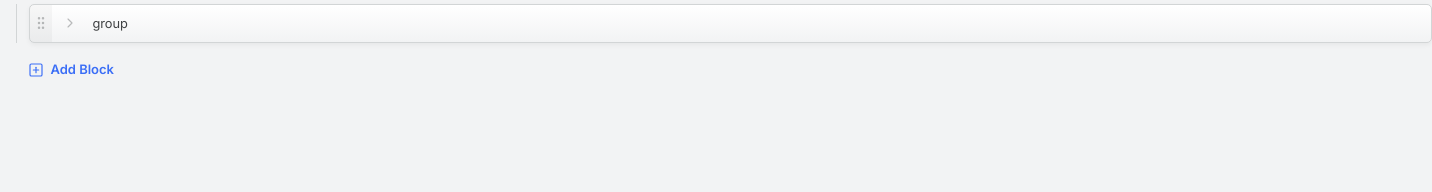
Test: BlockList › I4: a block whose type accepts nested blocks renders its own nested BlockList once expanded (blocks with nested blocks start collapsed)
The image size is (1432, 192).
Expected: the number of buttons "Add Block" is 1, [28,52,114,88]
Click the button named "Expand": (70, 23) [56,9,84,37]
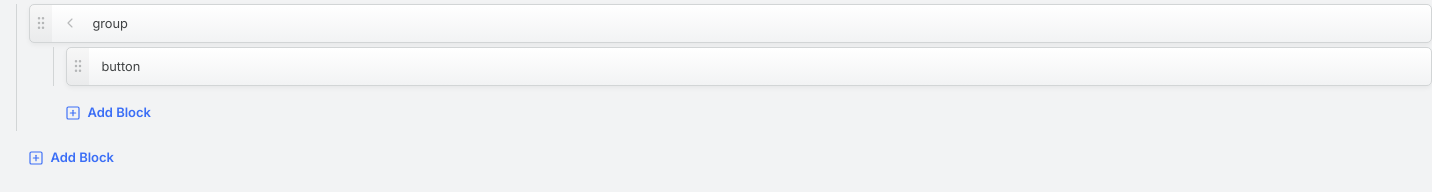
Expected: the number of buttons "Add Block" is 2, [65,95,151,131]; [28,140,114,176]
